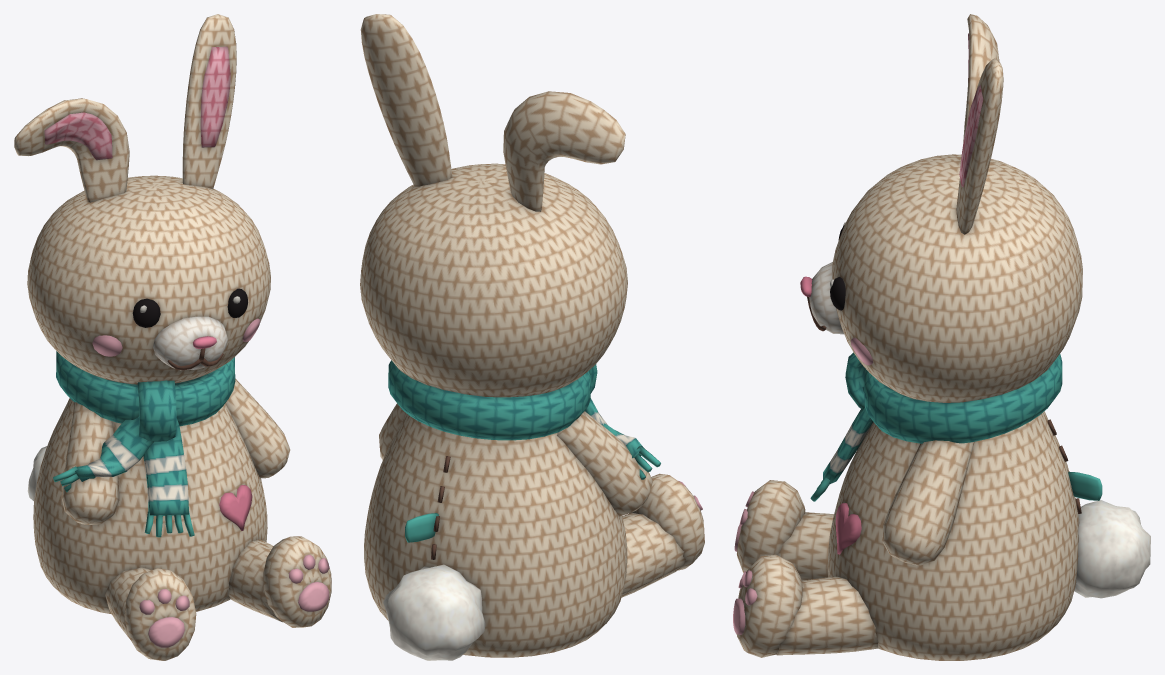
File: bunny.fbx
3 views of the same model, side by side, from view 1: azimuth 30°, elevation 25°; view 2: azimuth 150°, elevation 25°; view 3: azimuth 270°, elevation 25° (orthographic). The views are drawn at different scales.
Visible parts, largest first — view 1: Bunny_Body, Bunny_Eyes; view 2: Bunny_Body; view 3: Bunny_Body.
Part boxes in pixels (x1,y1,x2,y2): Bunny_Body: [14, 14, 331, 660]; Bunny_Eyes: [132, 288, 247, 327]; Bunny_Body: [360, 14, 704, 660]; Bunny_Body: [733, 14, 1150, 660].
Size of the model in its own units: 1.66 by 3.46 by 2.18.
2 materials, 1 textured.
